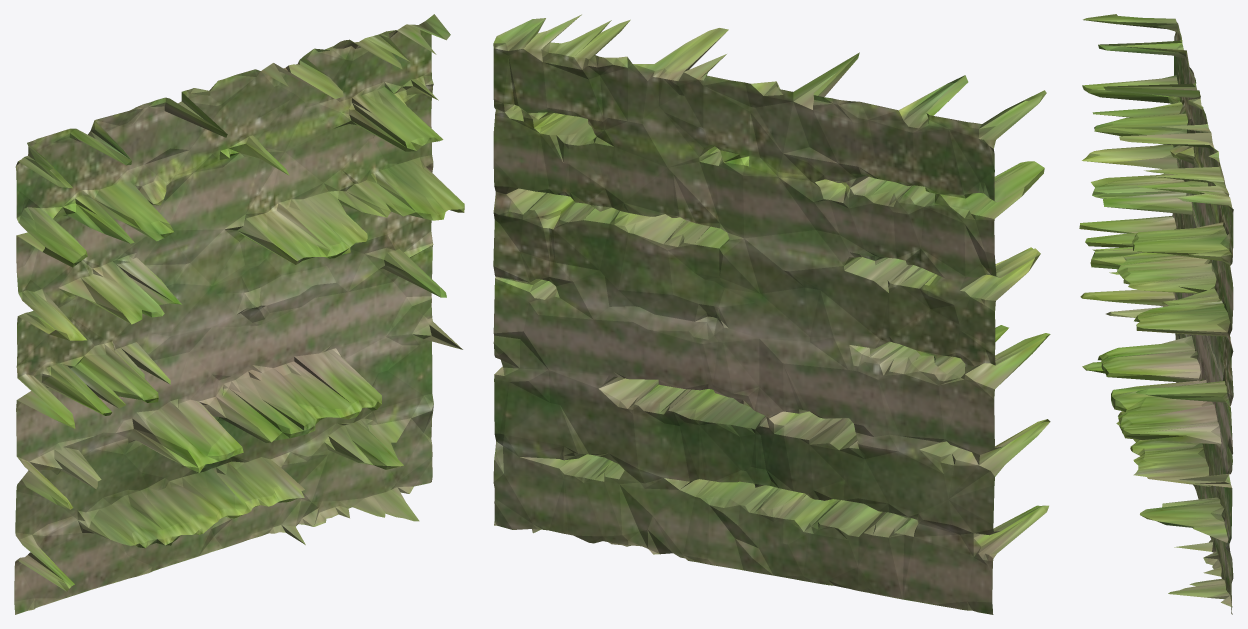
Rendered from map_100_20.obj.
3 views of the same model, side by side, from view 1: azimuth 30°, elevation 25°; view 2: azimuth 150°, elevation 25°; view 3: azimuth 270°, elevation 25° (orthographic). The views are drawn at different scales.
Parts seen in each view (by area): view 1: grp1; view 2: grp1; view 3: grp1.
Boxes of the visible parts, x1,y1,x2,y2 form: grp1: [14, 14, 464, 614]; grp1: [493, 14, 1050, 614]; grp1: [1079, 14, 1233, 614].
Bounding box in the file's own units: 10 × 10 × 3.41.
Materials: 1 (1 with a texture image).
